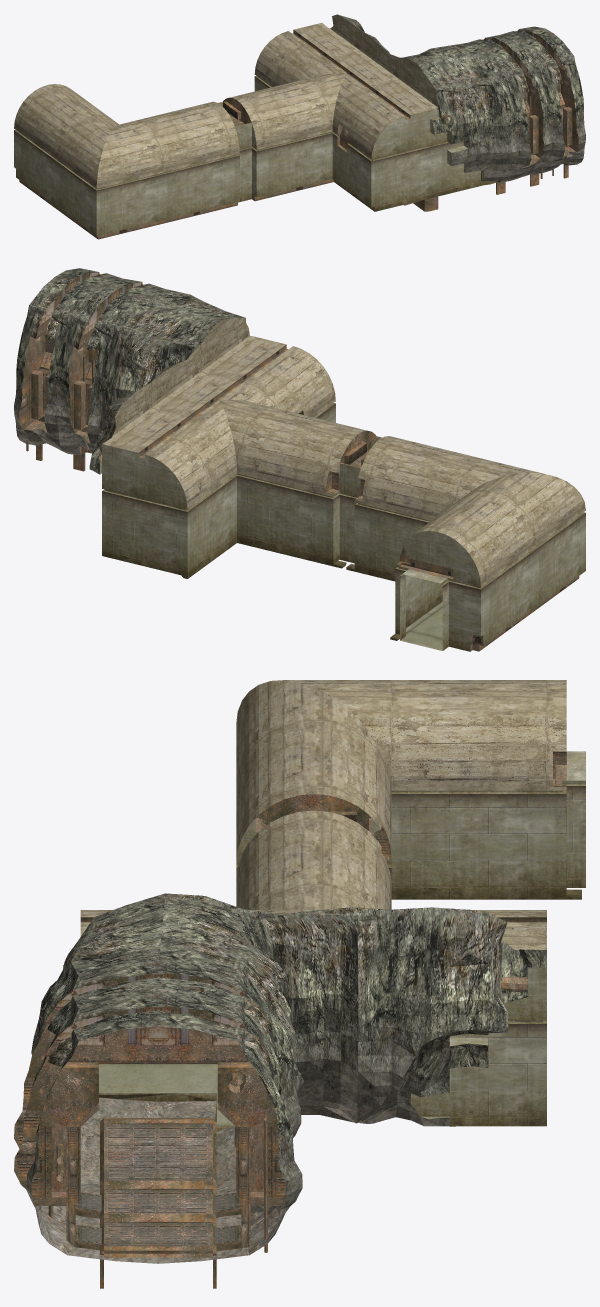
File: poi_all_bunker_mad_bio_s01_r24_transition5_mesh_r24.fbx
3 renders of one model, top to bottom at view 1: azimuth 30°, elevation 25°; view 2: azimuth 150°, elevation 25°; view 3: azimuth 270°, elevation 25°, orthographic. The views are drawn at different scales.
Visible parts, largest first — view 1: mesh_node; view 2: mesh_node; view 3: mesh_node.
Boxes of the visible parts, left/top/right/bottom form: mesh_node: left=14, top=14, right=585, bottom=239; mesh_node: left=14, top=268, right=585, bottom=651; mesh_node: left=14, top=680, right=585, bottom=1288.
Bounding box in the file's own units: 26 × 7.64 × 14.72.
